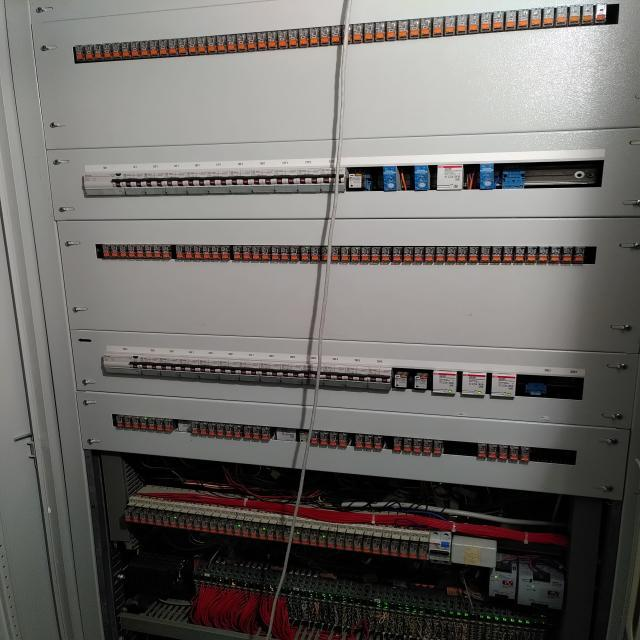Dimmer: (461, 371, 488, 397), (491, 372, 516, 398), (432, 370, 458, 394), (436, 165, 462, 189), (383, 165, 399, 191), (414, 166, 430, 190), (503, 172, 525, 188), (480, 164, 493, 189)
FI_Sicherungskombi: (429, 531, 452, 565)
Leitungsschutzschalter: (83, 165, 125, 196), (106, 345, 143, 376), (296, 159, 323, 193), (321, 158, 345, 193), (208, 161, 232, 194), (187, 161, 210, 195), (253, 160, 276, 193), (323, 356, 347, 387), (275, 160, 298, 192), (166, 162, 188, 195), (123, 165, 147, 195), (281, 353, 304, 384), (369, 359, 392, 389), (231, 161, 253, 192), (240, 351, 262, 382), (348, 357, 369, 389), (146, 165, 167, 195), (200, 349, 221, 379), (261, 352, 282, 382), (161, 348, 182, 377), (220, 351, 241, 380), (304, 355, 324, 385), (142, 348, 162, 377), (181, 349, 201, 378), (347, 173, 371, 190), (393, 369, 411, 389), (413, 369, 430, 390)
Relais: (581, 4, 595, 25), (555, 6, 568, 27), (568, 5, 581, 26), (542, 7, 555, 28), (517, 9, 530, 30), (595, 3, 608, 24), (530, 8, 542, 29), (505, 10, 517, 31), (398, 20, 410, 40), (386, 21, 398, 41), (444, 15, 456, 35), (480, 13, 492, 32), (375, 21, 386, 41), (352, 23, 363, 43), (457, 14, 468, 34), (287, 29, 298, 48), (298, 28, 309, 47), (410, 19, 421, 38), (421, 17, 432, 36), (468, 14, 479, 33), (493, 12, 504, 31), (433, 17, 444, 36), (561, 247, 574, 263), (573, 247, 586, 263), (331, 25, 341, 45), (364, 22, 374, 42), (216, 35, 227, 53), (538, 247, 550, 263), (502, 247, 514, 263), (446, 247, 458, 263), (236, 33, 246, 52), (246, 32, 256, 51), (309, 27, 319, 46), (320, 26, 330, 45), (278, 30, 288, 49), (174, 244, 185, 261), (177, 38, 188, 55), (149, 40, 160, 57), (120, 42, 131, 59), (468, 247, 480, 262), (514, 247, 526, 262), (257, 32, 267, 50), (267, 31, 277, 49), (550, 247, 561, 263), (526, 247, 537, 263), (424, 247, 435, 263), (487, 444, 498, 460), (102, 43, 112, 60), (167, 39, 177, 56), (197, 37, 207, 54), (84, 44, 94, 61), (227, 35, 237, 52), (130, 41, 140, 58), (433, 440, 443, 457), (520, 446, 530, 463), (477, 443, 487, 460), (220, 246, 231, 261), (491, 247, 502, 262), (480, 247, 491, 262), (207, 36, 216, 54), (109, 243, 119, 259), (403, 247, 413, 263), (381, 247, 391, 263), (252, 426, 262, 442), (338, 433, 348, 449), (319, 431, 329, 447), (509, 445, 519, 461), (499, 445, 509, 461), (355, 434, 365, 450), (413, 438, 423, 454), (403, 437, 413, 453), (373, 436, 383, 452), (162, 244, 171, 261), (101, 244, 111, 259), (144, 244, 154, 259), (74, 46, 84, 61), (198, 422, 208, 437), (261, 427, 271, 442), (364, 435, 374, 450), (301, 246, 311, 261), (329, 432, 338, 448), (188, 38, 197, 54), (458, 247, 467, 263), (436, 247, 445, 263), (301, 529, 310, 545), (420, 542, 428, 560), (400, 542, 409, 558), (318, 532, 327, 548), (354, 536, 363, 552), (135, 245, 145, 259), (147, 417, 157, 431), (159, 40, 167, 57), (178, 512, 186, 529), (391, 540, 399, 557), (127, 244, 136, 259), (140, 42, 149, 57), (233, 425, 242, 440), (243, 426, 252, 441), (310, 431, 319, 446), (393, 437, 402, 452), (291, 246, 300, 261), (351, 247, 360, 262), (361, 247, 370, 262), (393, 247, 402, 262), (250, 524, 259, 539), (363, 538, 372, 553), (372, 539, 381, 554), (381, 540, 390, 555), (131, 416, 141, 429), (115, 415, 125, 428), (163, 419, 173, 432), (94, 44, 102, 60), (113, 43, 121, 59), (310, 530, 318, 546), (410, 543, 418, 559), (345, 535, 353, 551), (225, 425, 234, 439), (185, 245, 194, 259), (252, 246, 261, 260), (261, 246, 270, 260), (271, 246, 280, 260), (281, 247, 290, 261), (311, 247, 320, 261), (341, 247, 350, 261), (212, 246, 220, 261), (195, 245, 203, 260), (203, 245, 211, 260), (243, 246, 251, 261), (372, 247, 380, 262), (415, 247, 423, 262), (194, 516, 202, 531), (202, 517, 210, 532), (226, 520, 234, 535), (234, 521, 242, 536), (259, 525, 267, 540), (276, 526, 284, 541), (328, 533, 336, 548), (336, 534, 344, 549), (171, 511, 178, 528), (155, 244, 162, 260), (217, 424, 225, 438), (322, 246, 329, 262), (332, 247, 340, 261), (187, 514, 194, 530), (242, 523, 250, 537), (267, 526, 275, 540), (347, 25, 353, 43), (120, 244, 127, 259), (141, 509, 148, 524), (218, 519, 225, 534), (294, 529, 301, 544), (156, 418, 164, 431), (209, 423, 216, 437), (233, 246, 240, 260), (134, 509, 141, 523), (148, 511, 155, 525), (210, 519, 217, 533), (164, 511, 170, 527), (284, 527, 290, 543), (192, 422, 199, 435), (141, 417, 148, 430), (126, 507, 132, 522), (156, 511, 162, 526), (125, 416, 132, 428)
